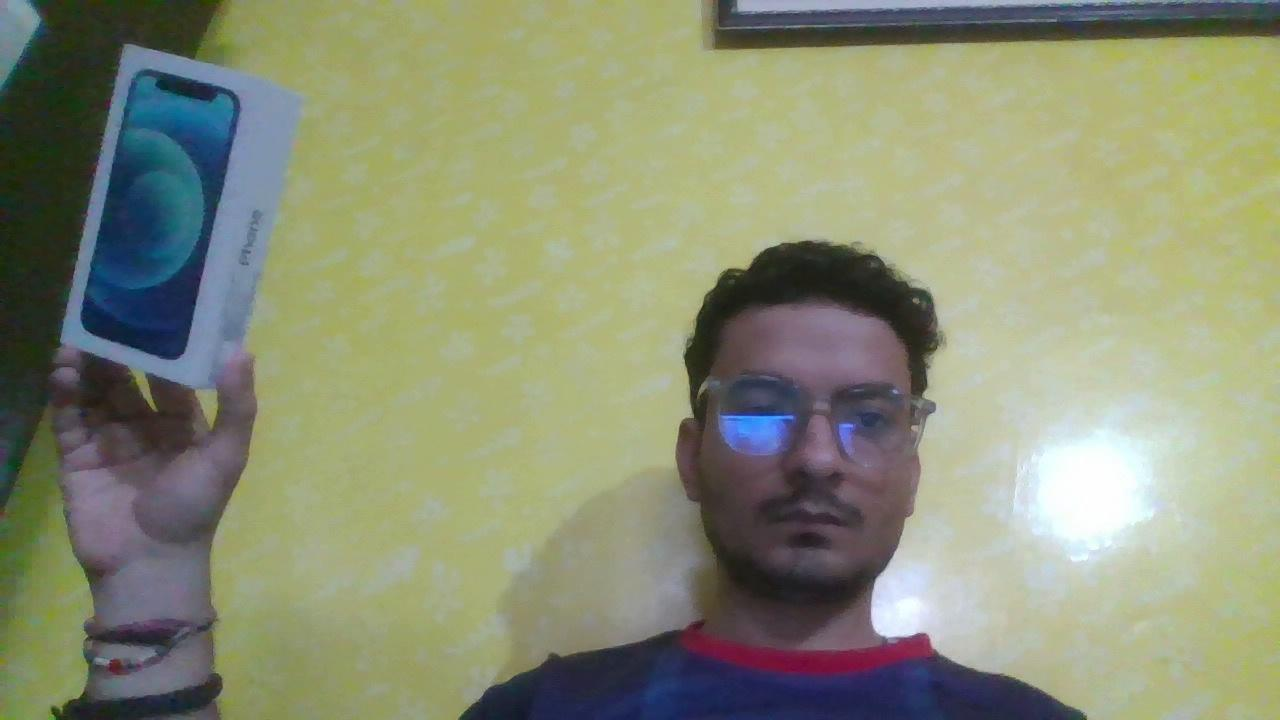Phone: (17, 35, 374, 427)
